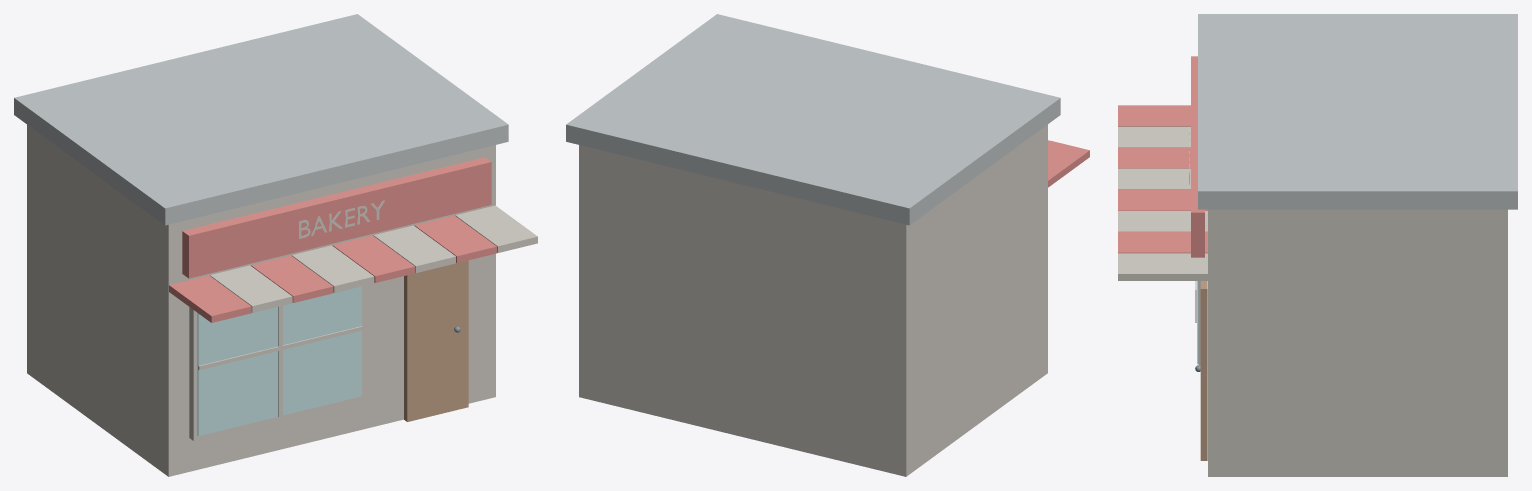
File: bakery.glb
3 renders of one model, left to right at view 1: azimuth 30°, elevation 25°; view 2: azimuth 150°, elevation 25°; view 3: azimuth 270°, elevation 25°, orthographic. The views are drawn at different scales.
Parts seen in each view (by area): view 1: bakery_001, bakery_000, bakery_005, bakery_008, bakery_002, bakery_004, bakery_010, bakery_011, bakery_014, bakery_012, bakery_013, bakery_016 (+5 smaller); view 2: bakery_000, bakery_001, bakery_010; view 3: bakery_000, bakery_001, bakery_017, bakery_008, bakery_016, bakery_010, bakery_011, bakery_012, bakery_013, bakery_015, bakery_014, bakery_002.
Boxes of the visible parts, box(x1,y1,x2,y2) form: bakery_001: box(14, 14, 508, 225); bakery_000: box(27, 124, 495, 476); bakery_005: box(197, 286, 361, 435); bakery_008: box(182, 157, 491, 278); bakery_002: box(404, 260, 468, 421); bakery_004: box(189, 285, 365, 440); bakery_010: box(169, 275, 251, 322); bakery_011: box(210, 265, 292, 312); bakery_014: box(332, 235, 415, 282); bakery_012: box(251, 255, 333, 302); bakery_013: box(291, 245, 374, 292); bakery_016: box(414, 215, 496, 262); bakery_000: box(579, 124, 1047, 476); bakery_001: box(566, 14, 1060, 225); bakery_010: box(1048, 140, 1089, 187); bakery_000: box(1208, 209, 1507, 476); bakery_001: box(1198, 14, 1517, 209); bakery_017: box(1118, 253, 1207, 280); bakery_008: box(1191, 56, 1204, 257); bakery_016: box(1118, 232, 1207, 253); bakery_010: box(1118, 105, 1190, 126); bakery_011: box(1118, 126, 1190, 147); bakery_012: box(1118, 147, 1190, 168); bakery_013: box(1118, 168, 1190, 189); bakery_015: box(1118, 211, 1207, 231); bakery_014: box(1118, 190, 1207, 210); bakery_002: box(1200, 281, 1207, 460).
Size of the model in its own units: 4.2 by 3.2 by 4.
